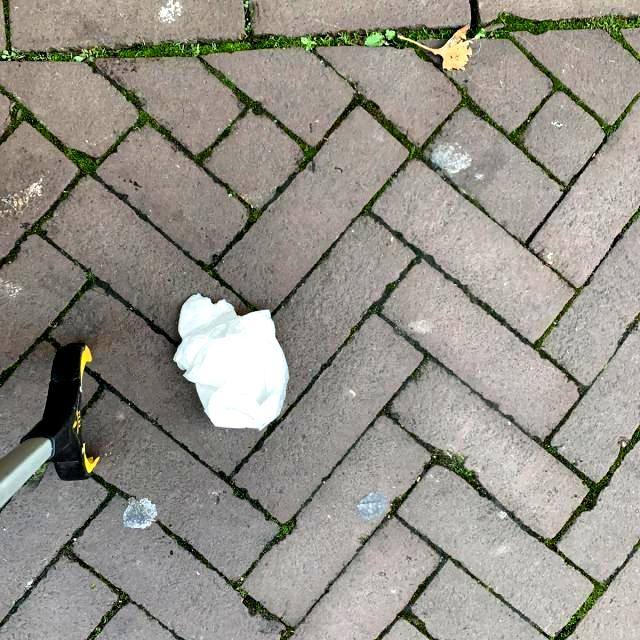Paper: (171, 289, 291, 431)
